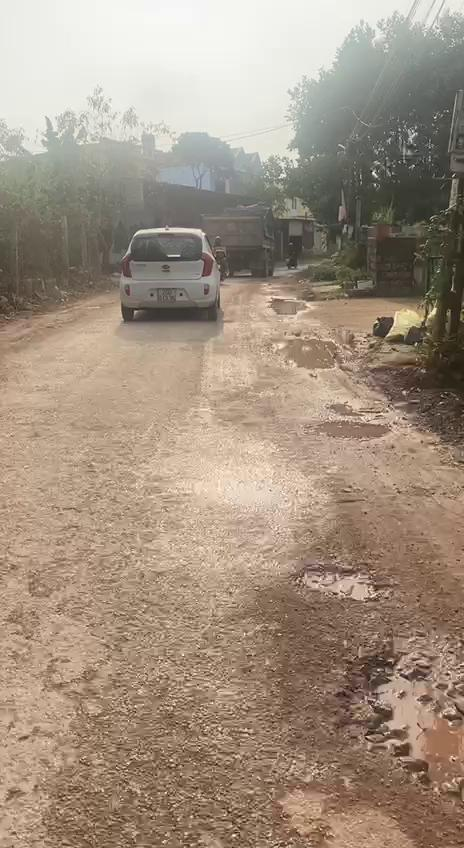pothole: (343, 642, 464, 808), (292, 558, 378, 611), (266, 334, 346, 374), (315, 417, 396, 445), (264, 294, 308, 316)
